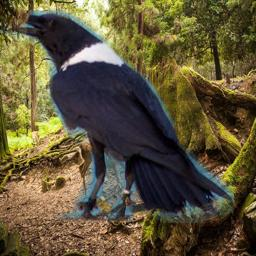Crow: (1, 10, 234, 223)
